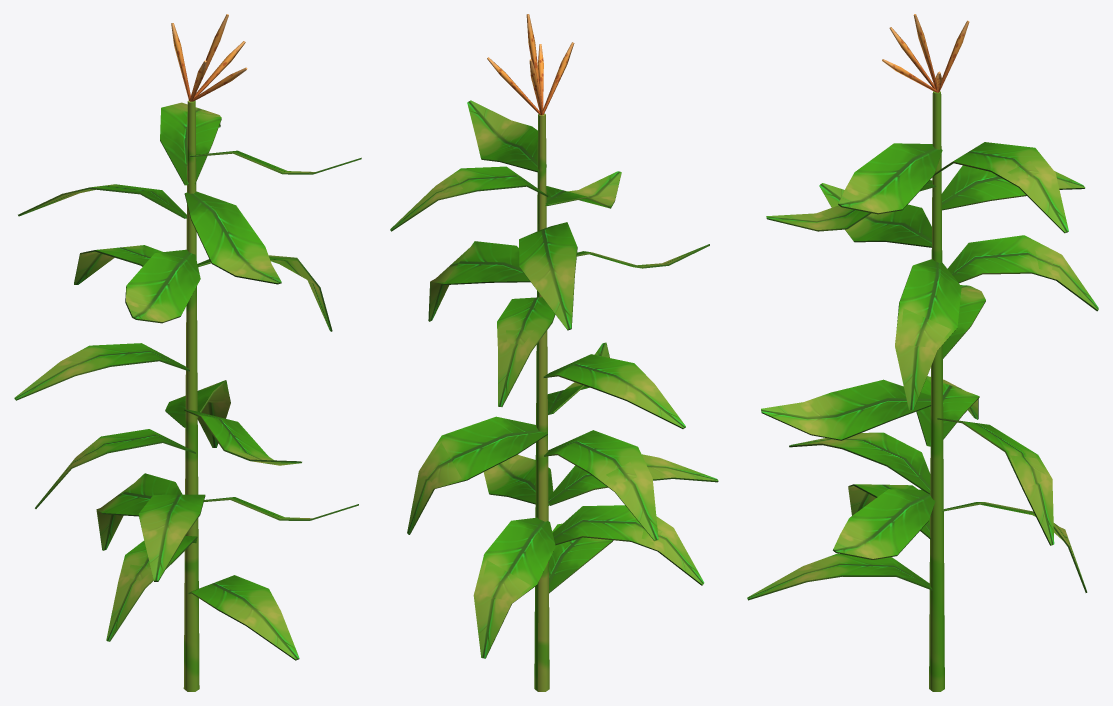
The model's file is Crop2.fbx.
The picture shows the model from 3 angles, left to right: view 1: azimuth 30°, elevation 25°; view 2: azimuth 150°, elevation 25°; view 3: azimuth 270°, elevation 25°; orthographic projection. The views are drawn at different scales.
Parts seen in each view (by area): view 1: Crop2; view 2: Crop2; view 3: Crop2.
Part boxes in pixels (x1=…): Crop2: x1=14, y1=14, x2=361, y2=691; Crop2: x1=390, y1=14, x2=718, y2=691; Crop2: x1=747, y1=14, x2=1098, y2=691.
Bounding box in the file's own units: 91.67 × 205 × 94.95.
